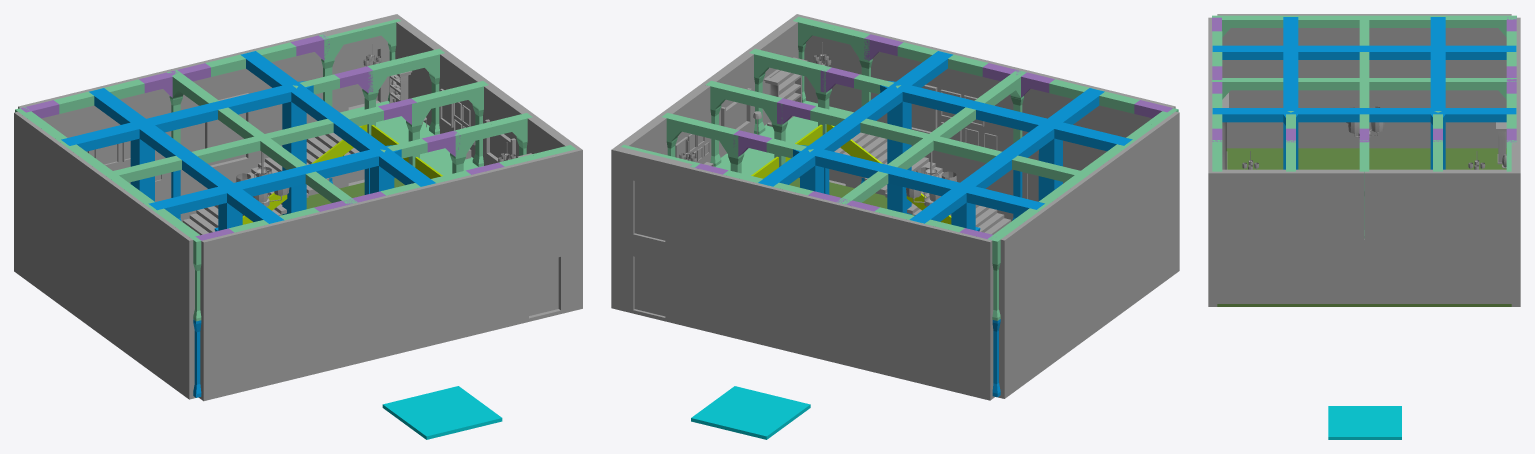
File: Sala.fbx
The picture shows the model from 3 angles, left to right: view 1: azimuth 30°, elevation 25°; view 2: azimuth 150°, elevation 25°; view 3: azimuth 270°, elevation 25°; orthographic projection. The views are drawn at different scales.
Parts seen in each view (by area): view 1: pCube745; view 2: pCube745; view 3: pCube745.
Boxes of the visible parts, x1,y1,x2,y2 form: pCube745: (14,14,582,439); pCube745: (611,14,1179,439); pCube745: (1208,14,1520,439).
Size of the model in its own units: 116 by 91.93 by 95.71.
